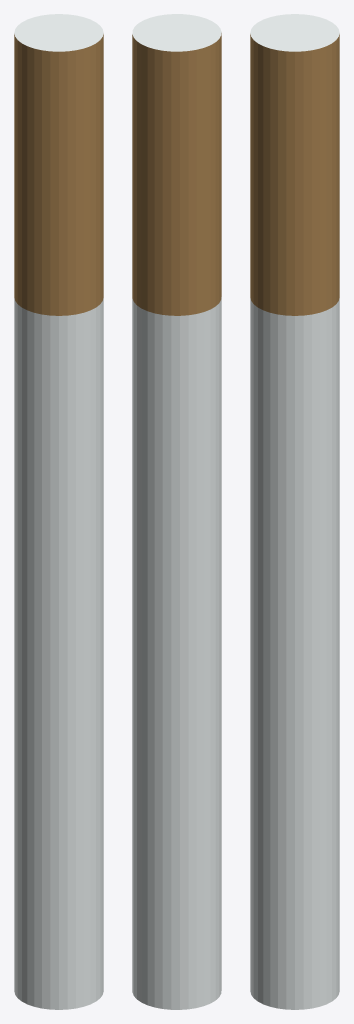
Rendered from ciggie_cunt.glb.
The picture shows the model from 3 angles, left to right: view 1: azimuth 90°, elevation 25°; view 2: azimuth 150°, elevation 25°; view 3: azimuth 270°, elevation 25°; orthographic projection.
Parts seen in each view (by area): view 1: Cylinder.008; view 2: Cylinder.008; view 3: Cylinder.008.
Part boxes in pixels (x1,y1,x2,y2): Cylinder.008: (14, 14, 103, 1009); Cylinder.008: (132, 14, 221, 1009); Cylinder.008: (250, 14, 339, 1009).
Bounding box in the file's own units: 0.0103 × 0.1219 × 0.0103.
2 materials, 1 textured.
